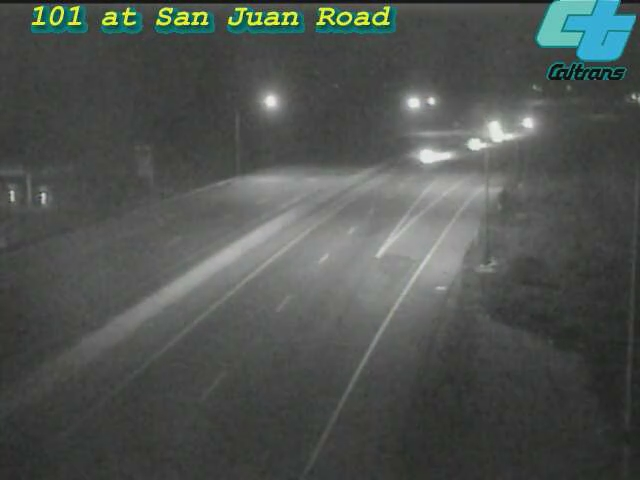vehicle: (472, 101, 522, 151), (503, 96, 553, 146), (473, 111, 523, 161), (449, 117, 499, 167), (407, 129, 457, 179)
